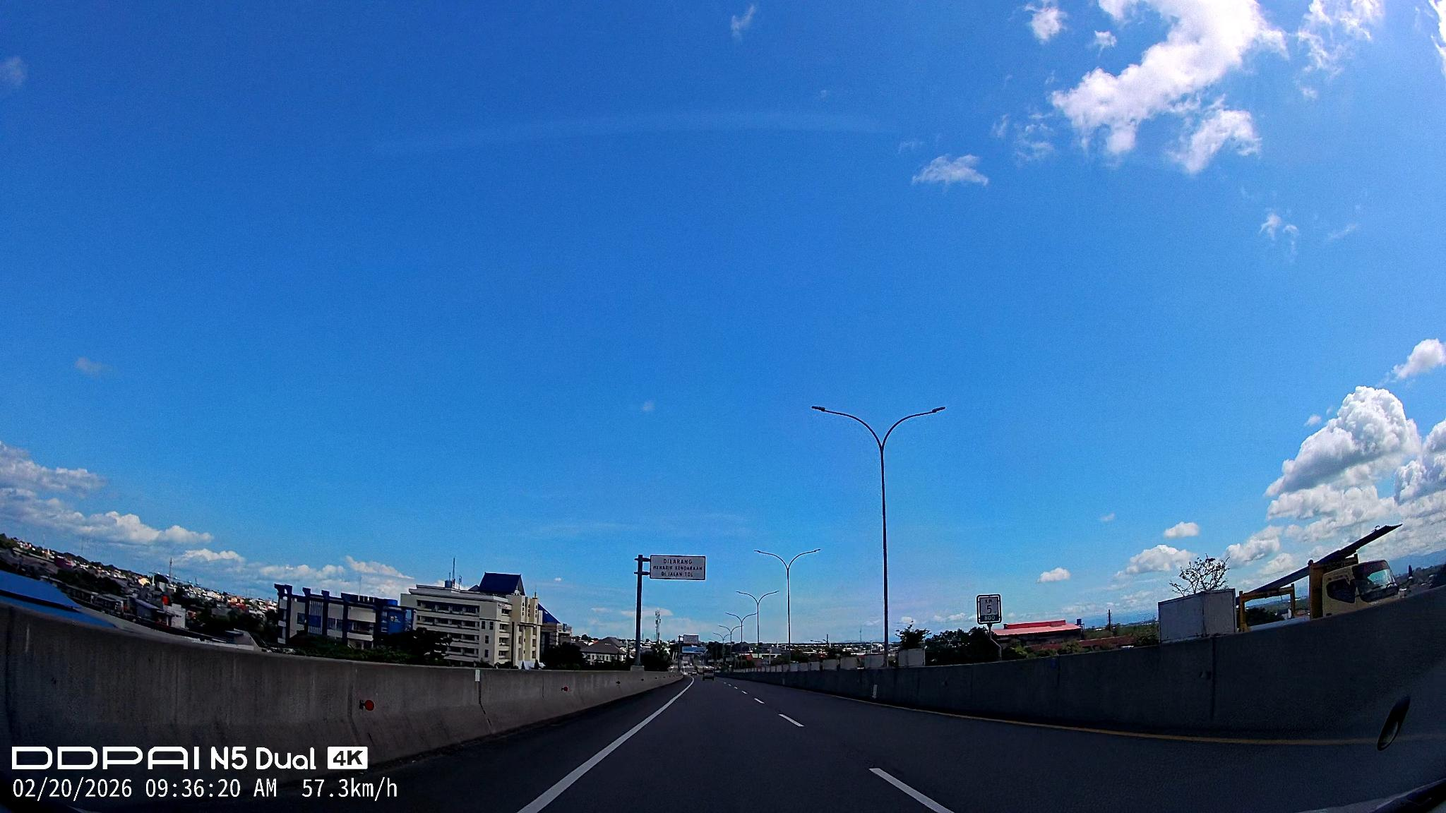rambu_teks: (649, 554, 707, 580)
